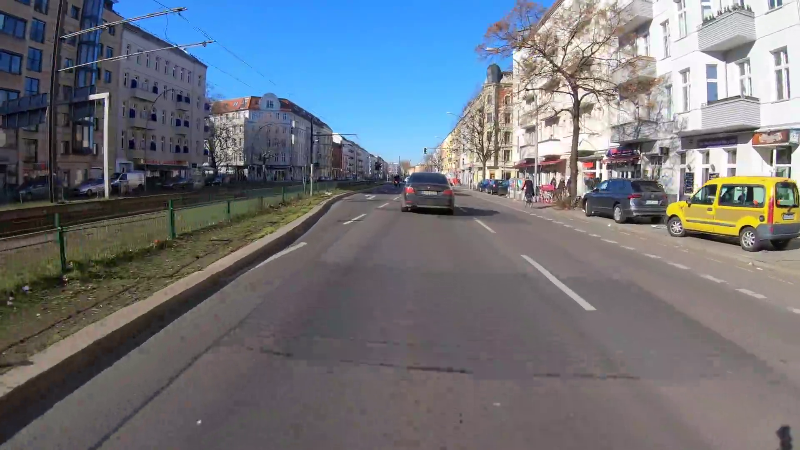Plate: (419, 189, 439, 196), (643, 199, 660, 206), (781, 214, 793, 220)
